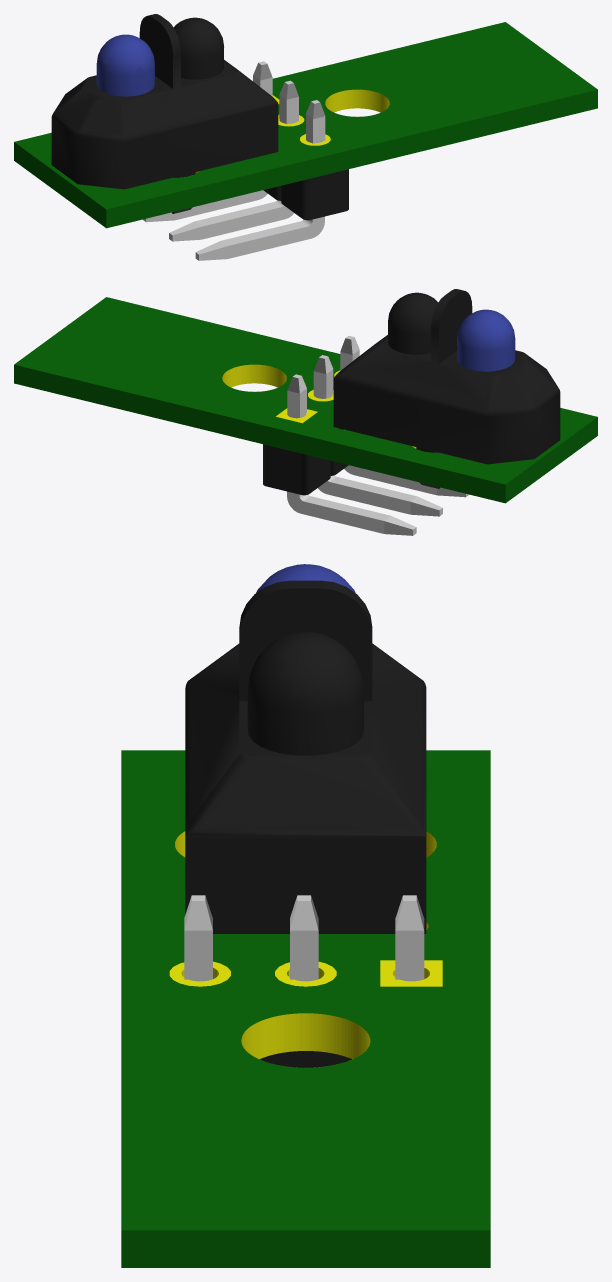
The model's file is arduino_analog_line_sensor.glb.
The picture shows the model from 3 angles, top to bottom: view 1: azimuth 30°, elevation 25°; view 2: azimuth 150°, elevation 25°; view 3: azimuth 270°, elevation 25°; orthographic projection. The views are drawn at different scales.
Visible parts, largest first — view 1: shape_1, shape_13, shape_12, shape_14, shape_11, shape_4; view 2: shape_1, shape_13, shape_12, shape_14, shape_11, shape_4, shape_2; view 3: shape_1, shape_13, shape_12, shape_4, shape_2, shape_14, shape_11.
Boxes of the visible parts, <box> form: shape_1: <box>14,22,597,228</box>; shape_13: <box>51,14,278,189</box>; shape_12: <box>143,61,325,260</box>; shape_14: <box>96,34,154,96</box>; shape_11: <box>263,169,348,220</box>; shape_4: <box>195,89,389,173</box>; shape_1: <box>14,297,597,503</box>; shape_13: <box>333,289,560,464</box>; shape_12: <box>287,336,468,535</box>; shape_14: <box>457,309,515,371</box>; shape_11: <box>263,444,348,495</box>; shape_4: <box>222,364,416,448</box>; shape_2: <box>276,370,340,423</box>; shape_1: <box>121,750,490,1267</box>; shape_13: <box>185,580,426,933</box>; shape_12: <box>184,895,424,981</box>; shape_4: <box>175,831,436,1067</box>; shape_2: <box>169,960,442,986</box>; shape_14: <box>256,564,355,592</box>; shape_11: <box>259,1051,351,1067</box>.
Bounding box in the file's own units: 0.0273 × 0.012 × 0.00889.
